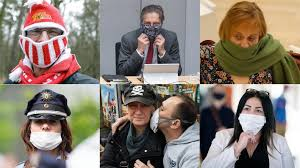mask_weared_incorrect: (25, 22, 63, 61), (229, 32, 259, 64), (32, 120, 60, 146)
with_mask: (151, 101, 170, 134), (243, 104, 264, 129), (142, 17, 163, 38)
without_mask: (129, 104, 149, 127)
